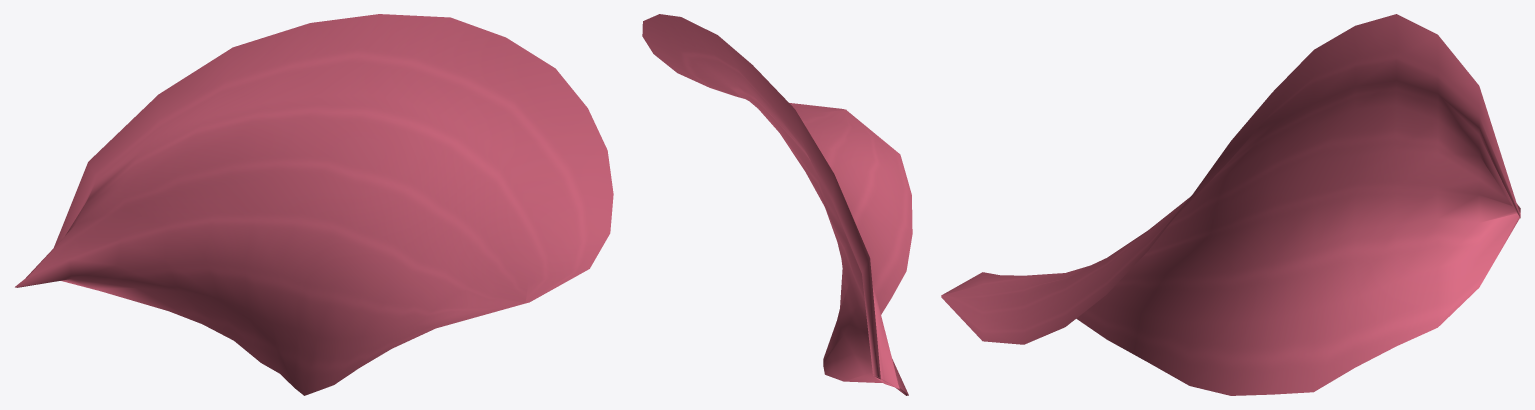
The model's file is petal_17_twisted.glb.
The picture shows the model from 3 angles, left to right: view 1: azimuth 30°, elevation 25°; view 2: azimuth 150°, elevation 25°; view 3: azimuth 270°, elevation 25°; orthographic projection. The views are drawn at different scales.
Visible parts, largest first — view 1: petal_17_twisted; view 2: petal_17_twisted; view 3: petal_17_twisted.
Boxes of the visible parts, x1,y1,x2,y2 form: petal_17_twisted: (15,14,613,395); petal_17_twisted: (642,14,912,395); petal_17_twisted: (941,14,1520,395).
Bounding box in the file's own units: 0.0976 × 0.0691 × 0.0863.
1 material, 1 textured.
